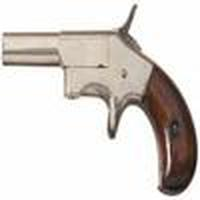gun: (5, 29, 199, 200)
